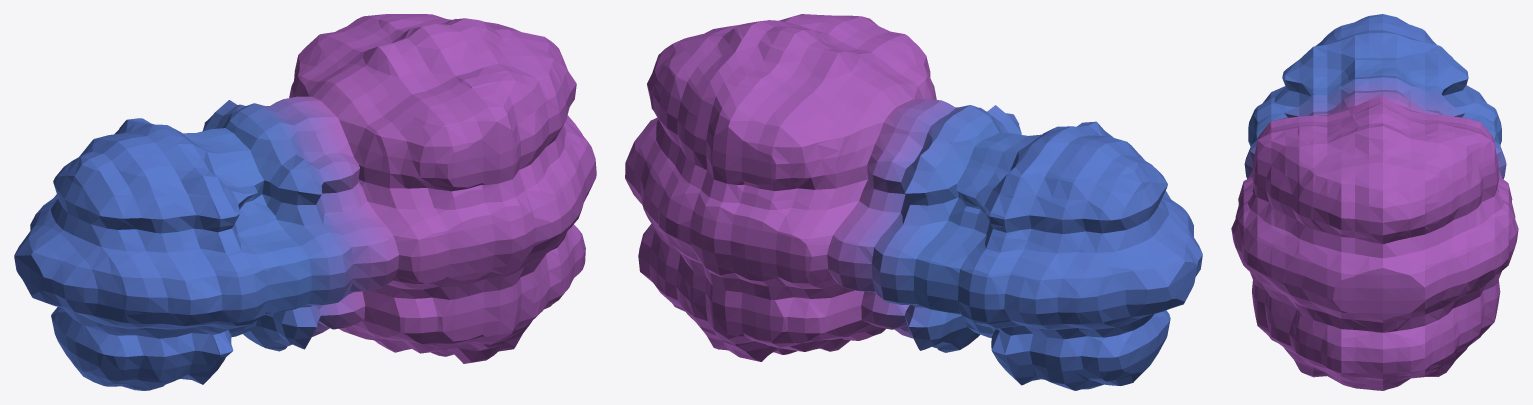
3 renders of one model, left to right at view 1: azimuth 30°, elevation 25°; view 2: azimuth 150°, elevation 25°; view 3: azimuth 270°, elevation 25°, orthographic. The views are drawn at different scales.
Visible parts, largest first — view 1: geometry_0; view 2: geometry_0; view 3: geometry_0.
Part boxes in pixels (x1,y1,x2,y2): geometry_0: (14,14,596,390); geometry_0: (625,14,1202,390); geometry_0: (1231,14,1518,390).
Bounding box in the file's own units: 1.59 × 0.8957 × 0.8765.
